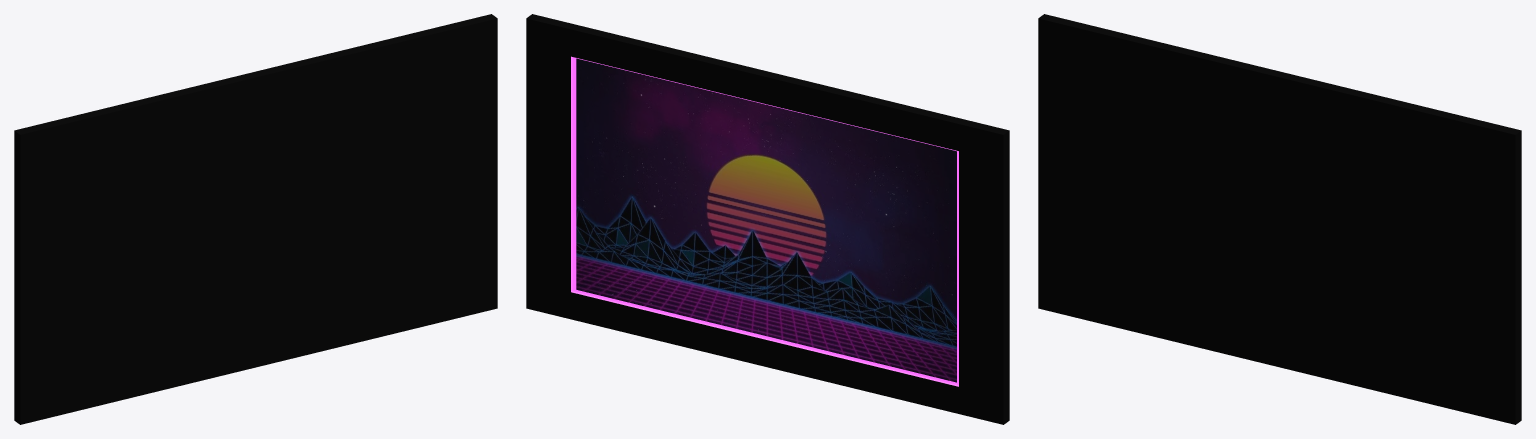
File: poster1.fbx
3 renders of one model, left to right at view 1: azimuth 30°, elevation 25°; view 2: azimuth 150°, elevation 25°; view 3: azimuth 330°, elevation 25°, orthographic.
Visible parts, largest first — view 1: Plane; view 2: Plane; view 3: Plane.
Boxes of the visible parts, <box> form: Plane: <box>14,14,497,424</box>; Plane: <box>526,14,1009,424</box>; Plane: <box>1038,14,1521,424</box>.
Bounding box in the file's own units: 1359 × 789 × 30.03.
